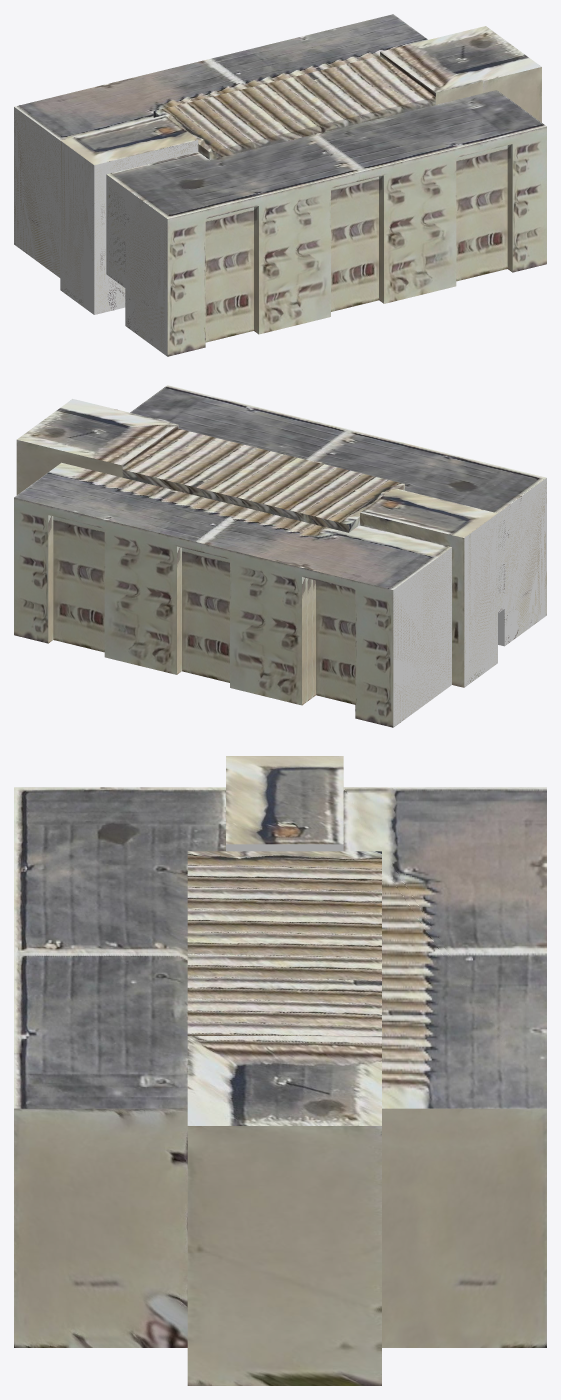
The model's file is Techni_Bldg3.dae.
3 renders of one model, top to bottom at view 1: azimuth 30°, elevation 25°; view 2: azimuth 150°, elevation 25°; view 3: azimuth 270°, elevation 25°, orthographic. The views are drawn at different scales.
Parts seen in each view (by area): view 1: group_0 (×18); view 2: group_0 (×18); view 3: group_0 (×9).
Boxes of the visible parts, bbox=[...] form: group_0 (×18): bbox=[14, 14, 546, 356]; group_0 (×18): bbox=[14, 385, 546, 727]; group_0 (×9): bbox=[14, 756, 546, 1385].
Size of the model in its own units: 1259 by 767 by 413.
Materials: 18 (16 with a texture image).
